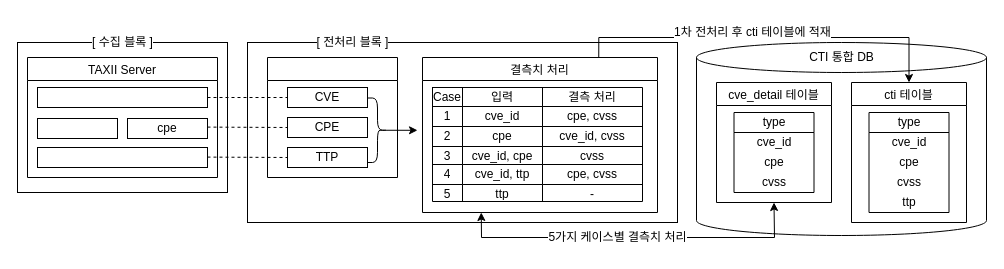
The diagram is 1004 pixels wide and 269 high, and some of its shapes have lost their labels. Each missing label, with the centre of its shape:
"attack-pattern" goes at point (122, 157).
"software" goes at point (77, 128).
"vulnerabilities" goes at point (122, 97).
"데이터 파싱" goes at point (332, 117).
